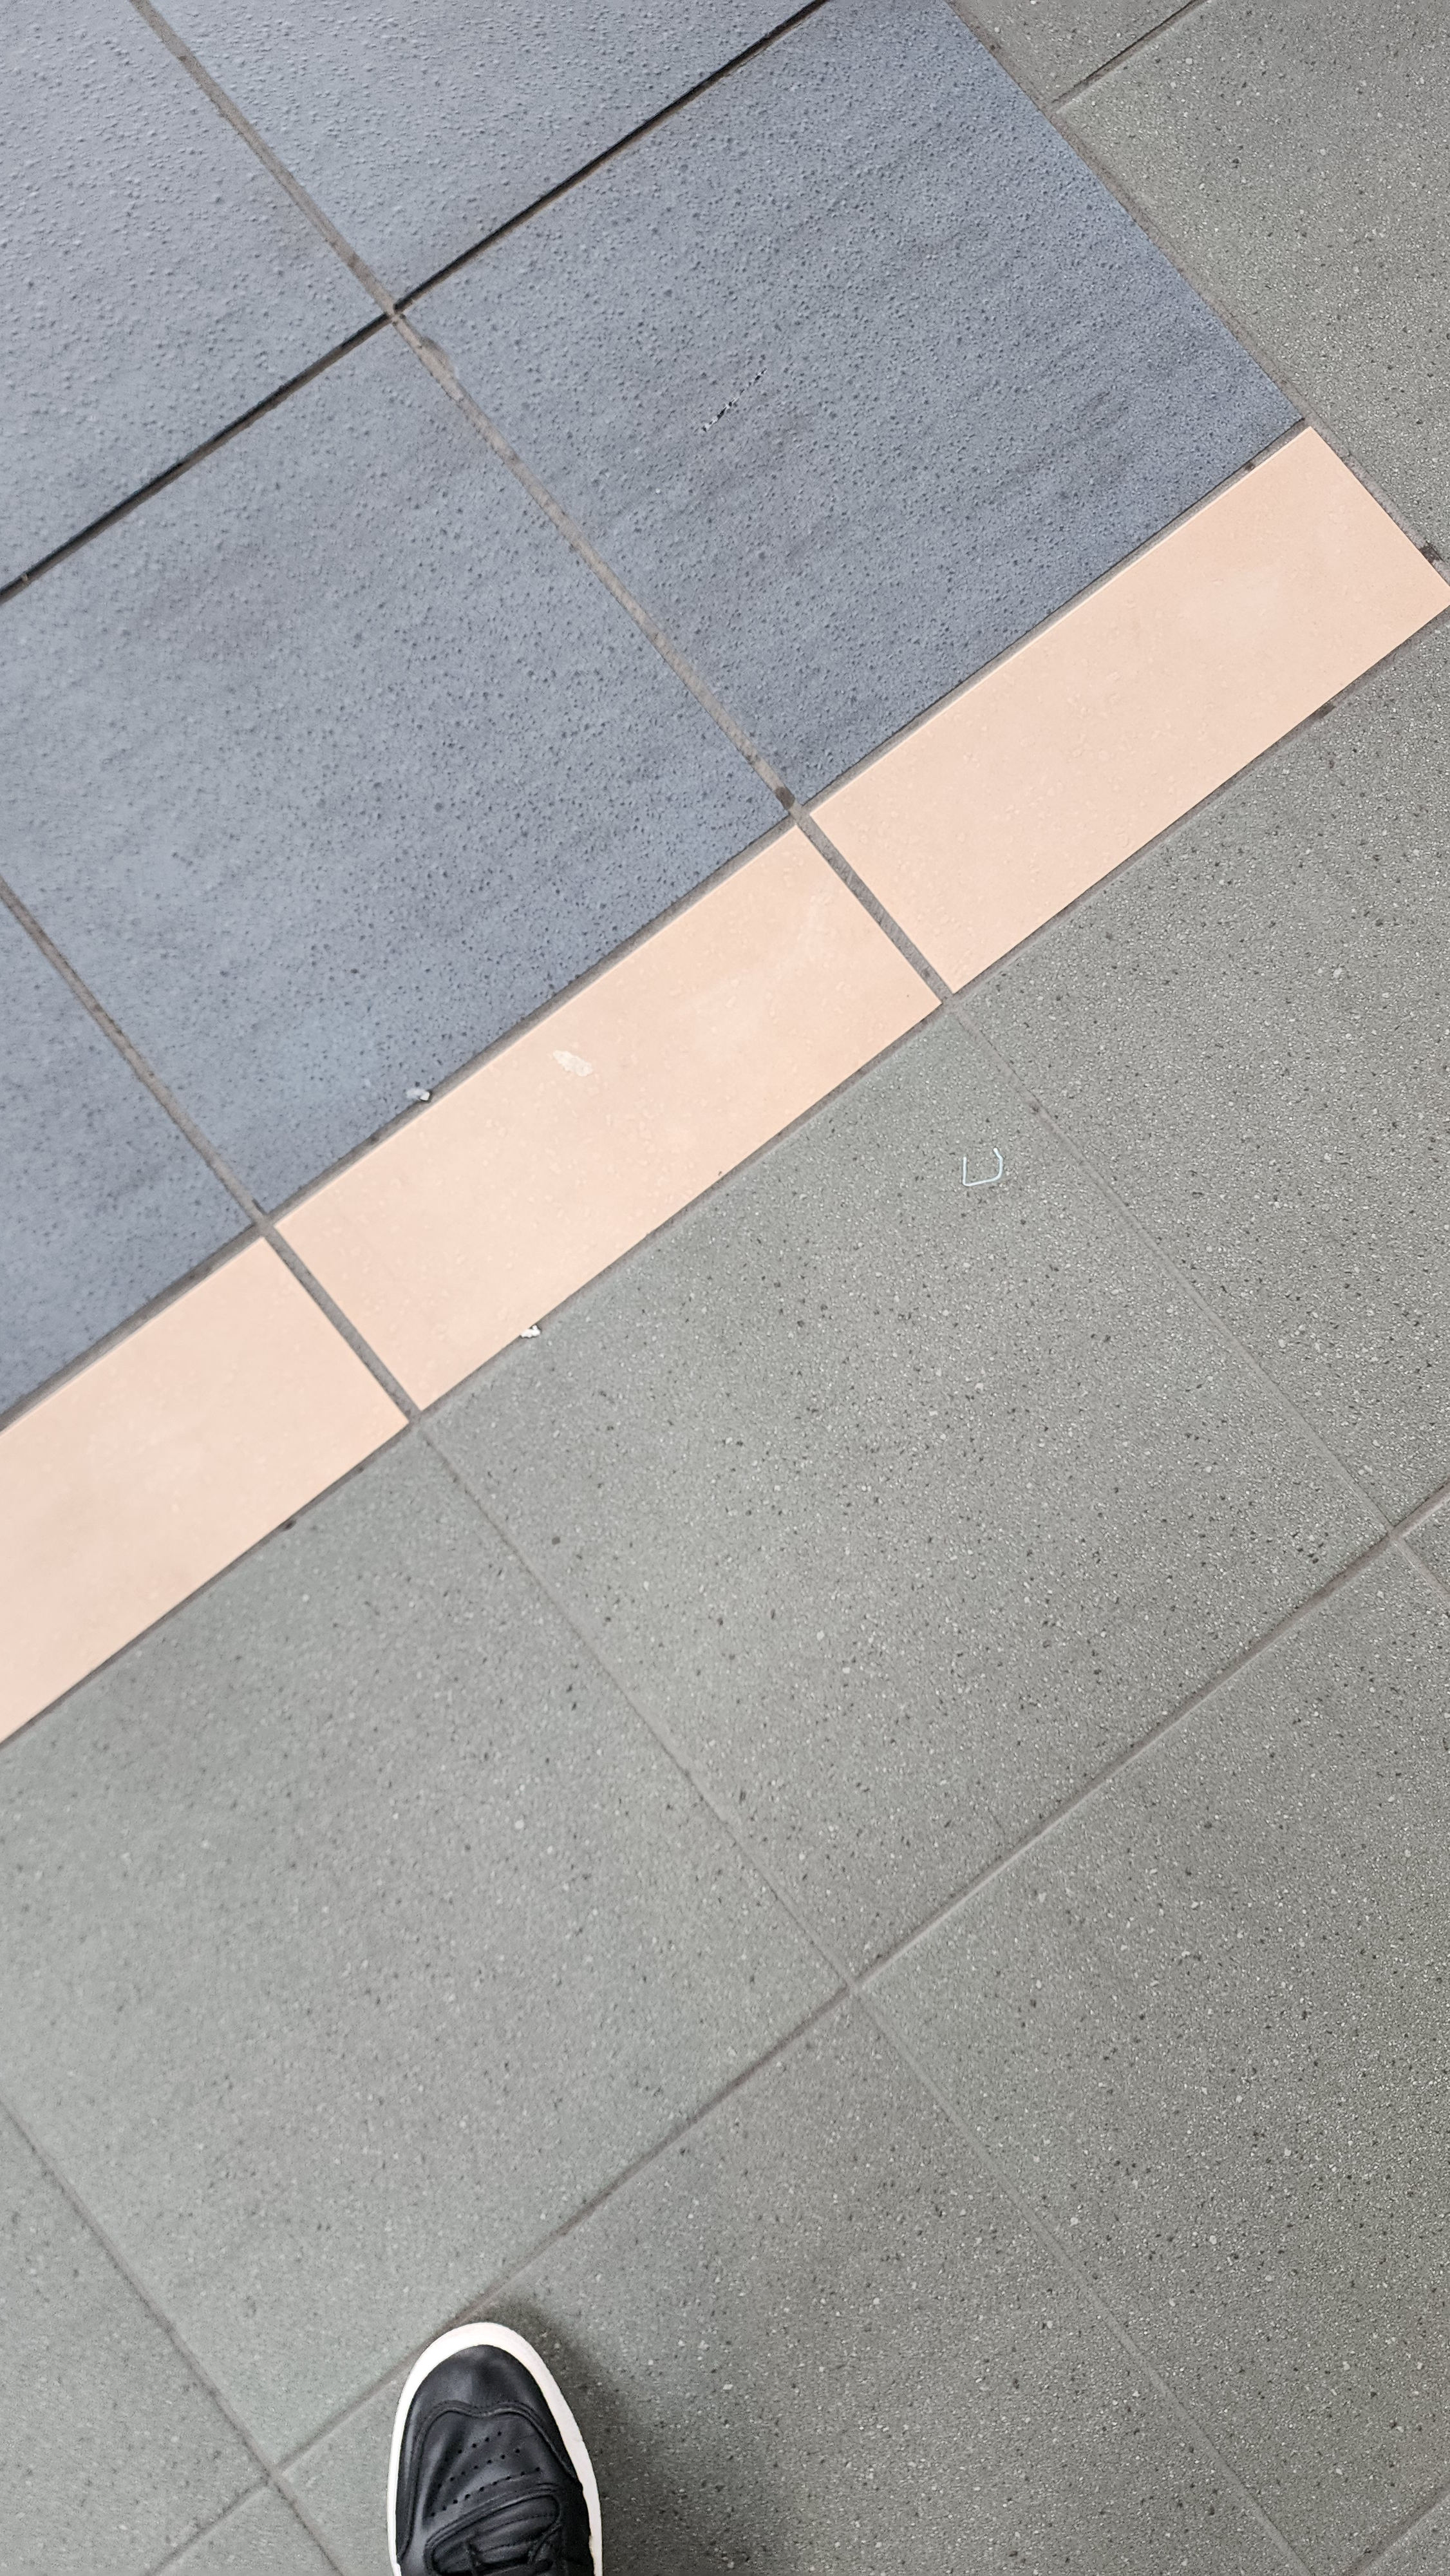Garbage: (382, 1062, 456, 1138), (948, 1132, 1019, 1205), (508, 1306, 566, 1364)
